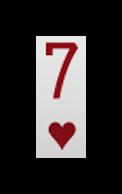7H: (40, 39, 81, 154)
